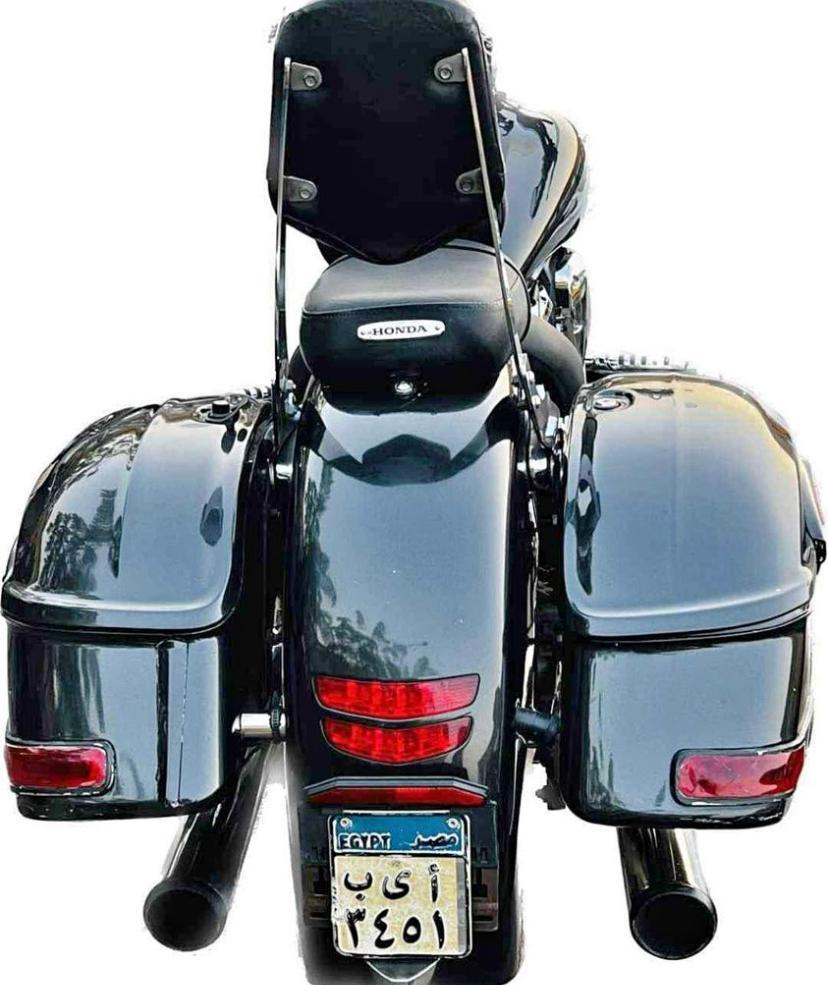License Plate: (323, 803, 479, 959)
